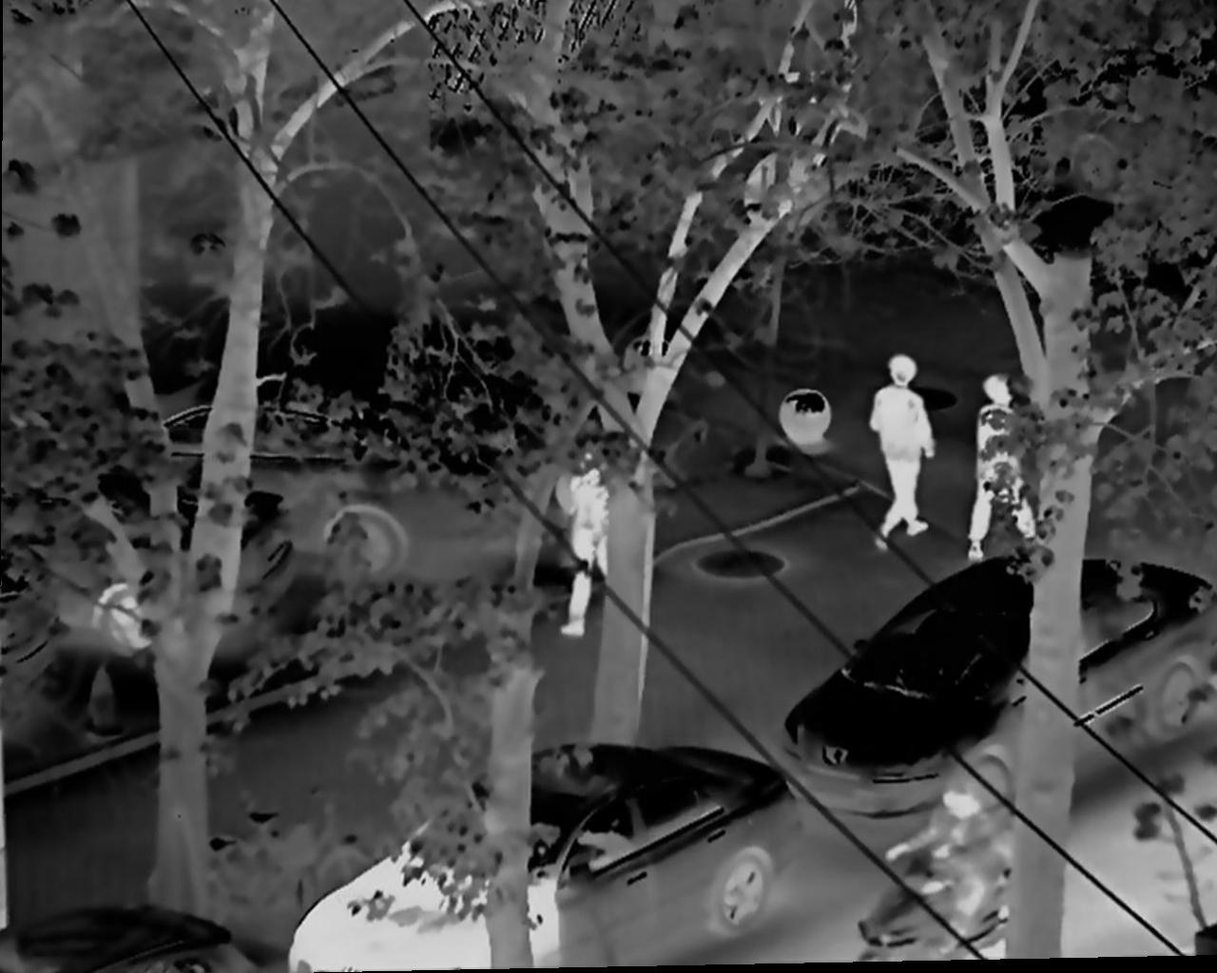person: (889, 781, 1013, 938), (861, 340, 939, 549), (965, 370, 1037, 564), (558, 459, 634, 639)
